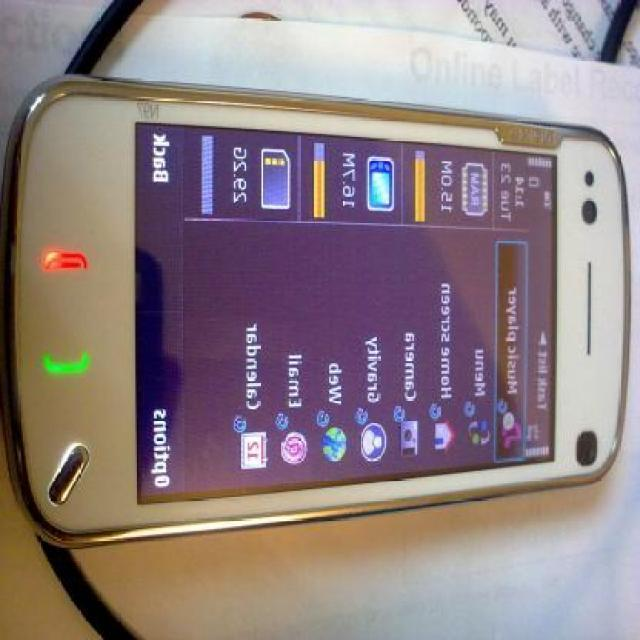phone: (0, 72, 634, 555)
